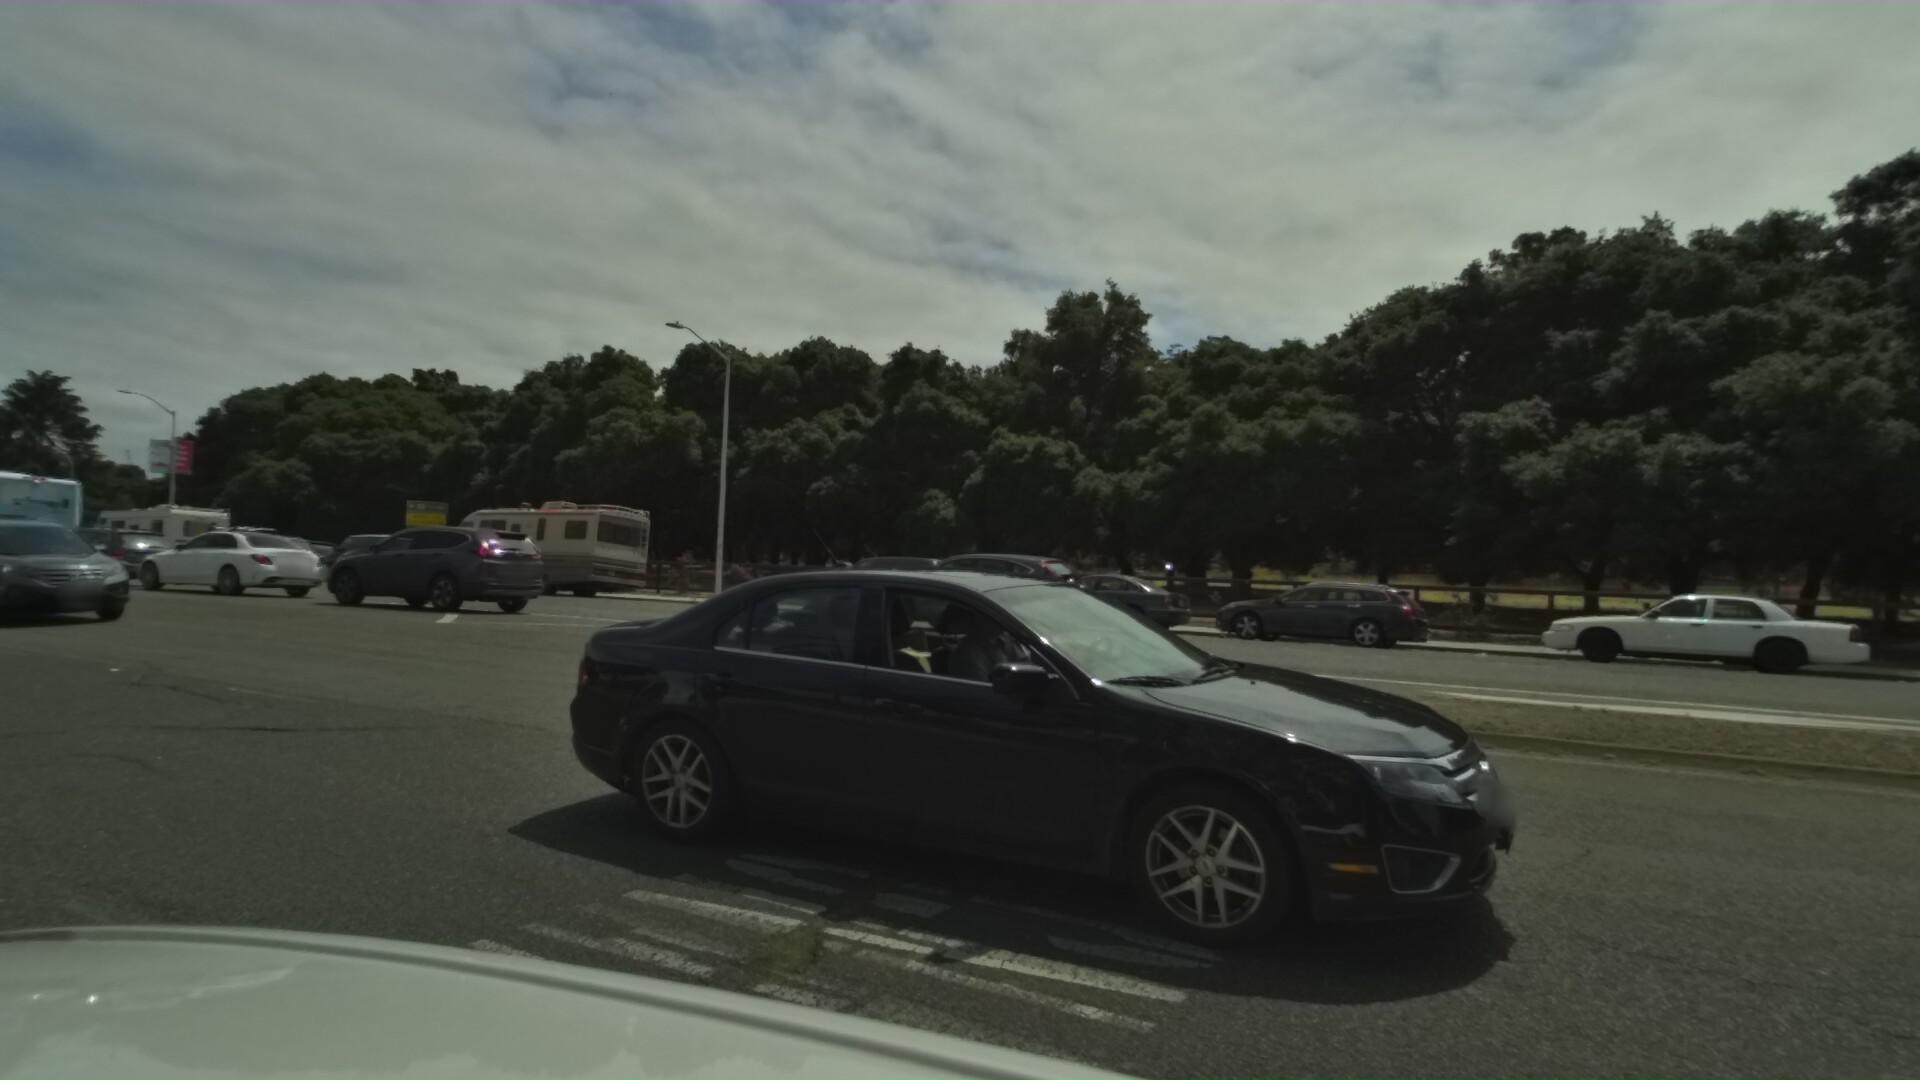car: (564, 535, 1664, 1064), (1501, 582, 1845, 690), (294, 520, 545, 618), (816, 542, 1056, 640), (119, 510, 332, 603), (1176, 574, 1415, 655), (0, 518, 161, 636), (982, 566, 1183, 637), (777, 553, 969, 624), (0, 520, 191, 589), (191, 529, 318, 585), (315, 531, 439, 583), (243, 531, 348, 580)
other_vehicle: (429, 498, 653, 593), (90, 496, 239, 570)
truck: (0, 467, 96, 578)
